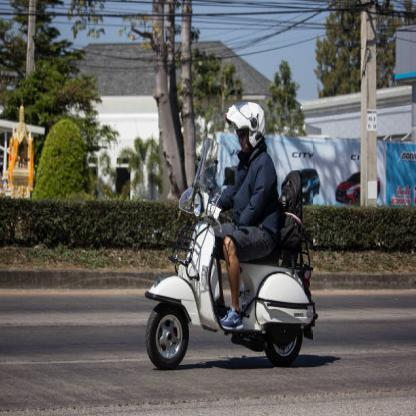Motorcycle: (137, 174, 318, 366)
